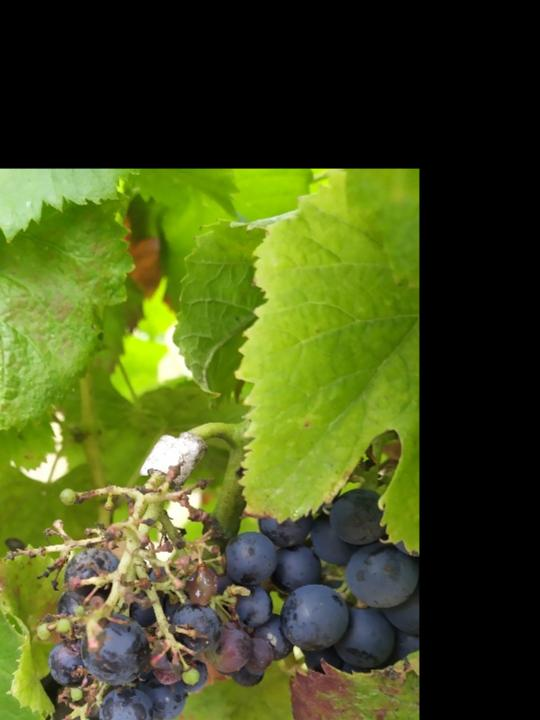grape: (4, 473, 273, 720)
